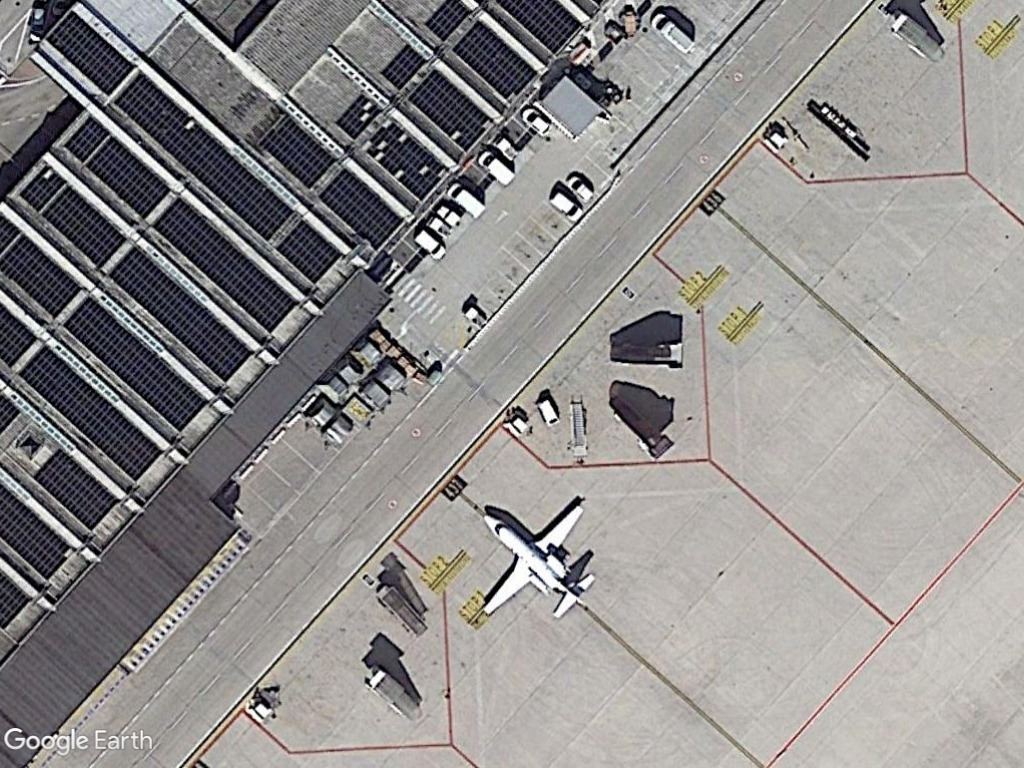car: (564, 172, 598, 207), (520, 107, 555, 139)
chartered: (472, 497, 602, 624)
van: (647, 10, 699, 55), (442, 178, 491, 220), (473, 151, 518, 187), (410, 227, 451, 263), (546, 191, 585, 225)
